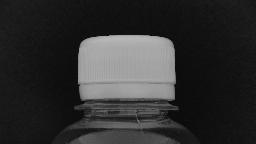Good Cap: (70, 31, 182, 114)
